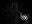person: (21, 15, 28, 22)
